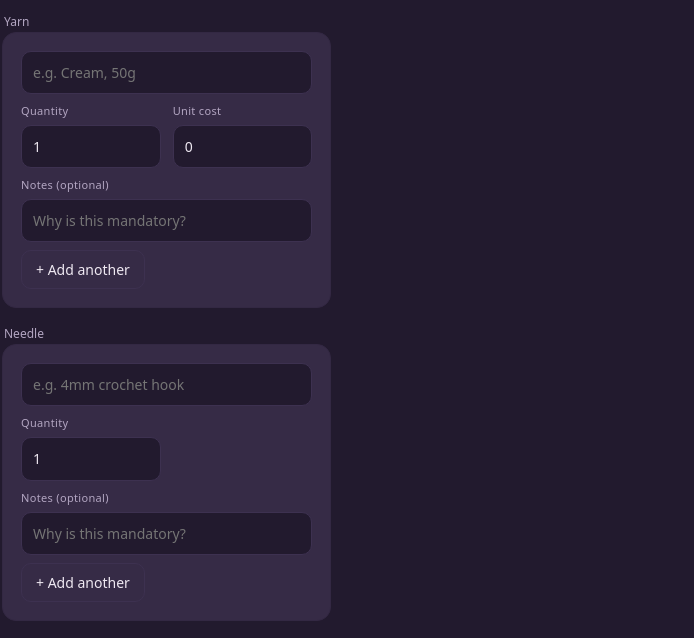
MandatoryItemsFields › adding another entry appends a blank one for that kind only
The image size is (694, 638).
Check: the number of fields with placeholder "e.g. Cream, 50g" is 1, box [21,51,312,94]
Click the button with aria-label "add another yarn entry".
click(83, 270)  # box [21,250,145,290]
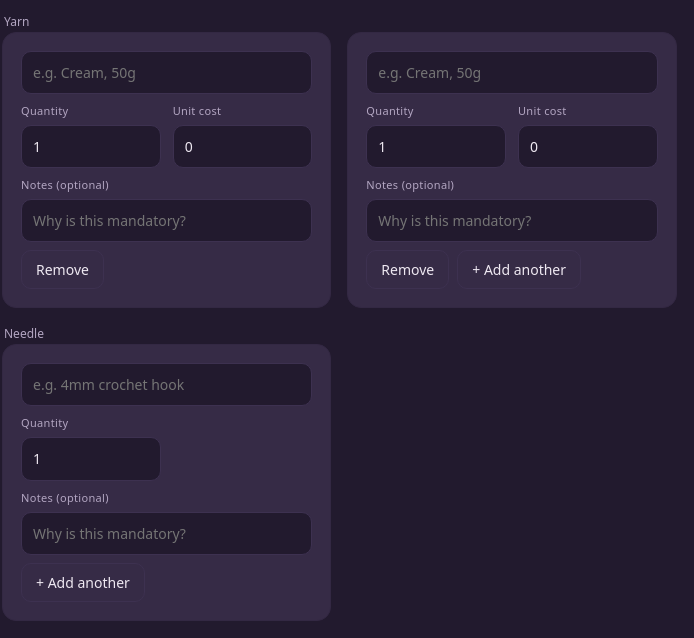
Check: the number of fields with placeholder "e.g. 4mm crochet hook" is 1, box [21,363,312,406]
Check: the number of fields with placeholder "e.g. Cream, 50g" is 2, box [21,51,312,94]; [366,51,658,94]
